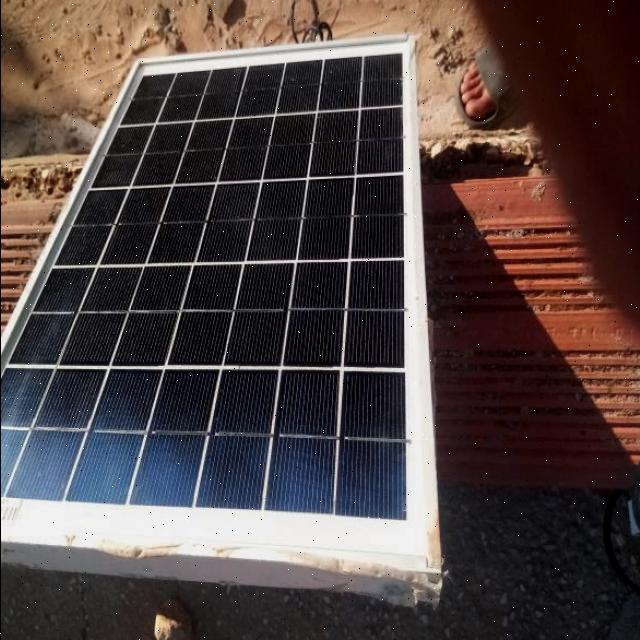Normal Solar Panel: (0, 34, 439, 574)
